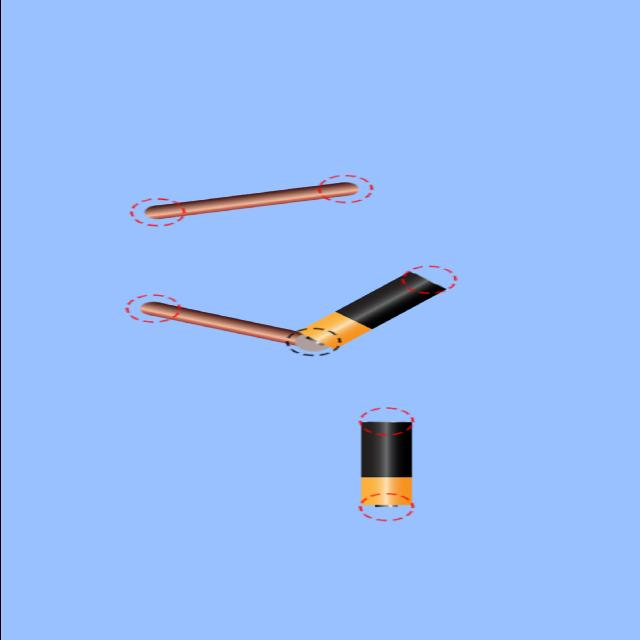Battery: (302, 271, 443, 349), (360, 421, 411, 506)
Wire: (145, 182, 357, 219), (140, 301, 298, 342)
